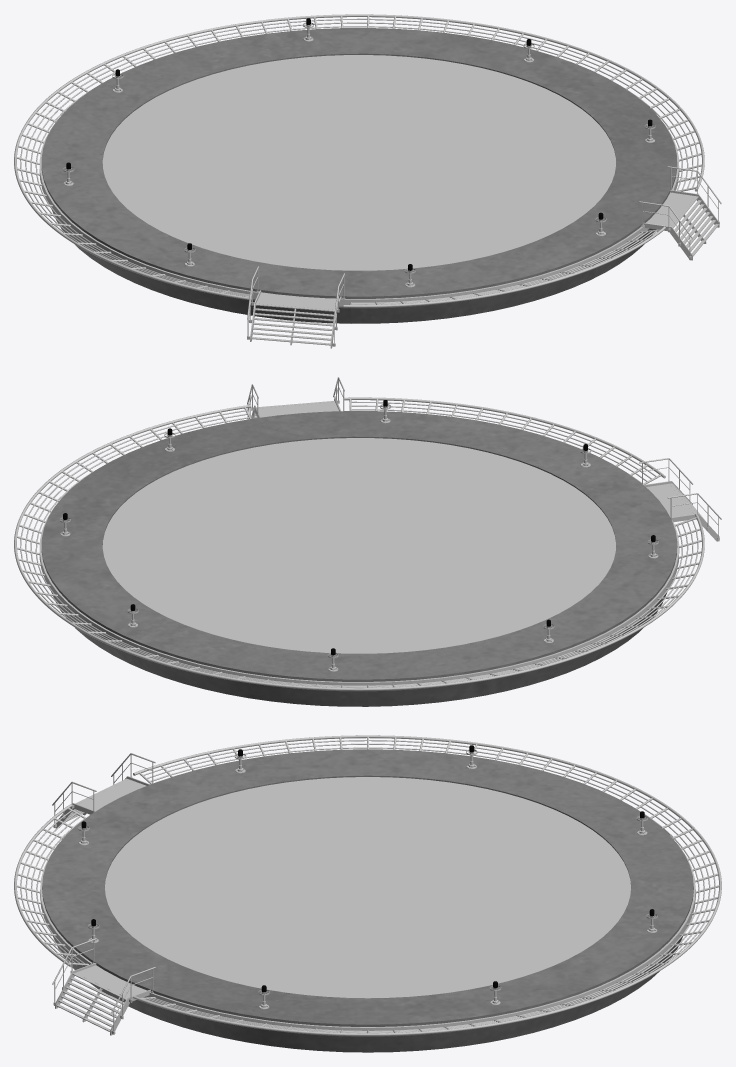
Rendered from Hélipad.fbx.
3 views of the same model, one above another, from view 1: azimuth 30°, elevation 25°; view 2: azimuth 150°, elevation 25°; view 3: azimuth 270°, elevation 25° (orthographic). The views are drawn at different scales.
Parts seen in each view (by area): view 1: KB3D_NSF_PropHeliPad_A_Main; view 2: KB3D_NSF_PropHeliPad_A_Main; view 3: KB3D_NSF_PropHeliPad_A_Main.
Boxes of the visible parts, left/top/right/bottom form: KB3D_NSF_PropHeliPad_A_Main: left=14, top=14, right=721, bottom=348; KB3D_NSF_PropHeliPad_A_Main: left=14, top=377, right=721, bottom=706; KB3D_NSF_PropHeliPad_A_Main: left=14, top=735, right=721, bottom=1052.
Size of the model in its own units: 26.57 by 2.23 by 26.57.
